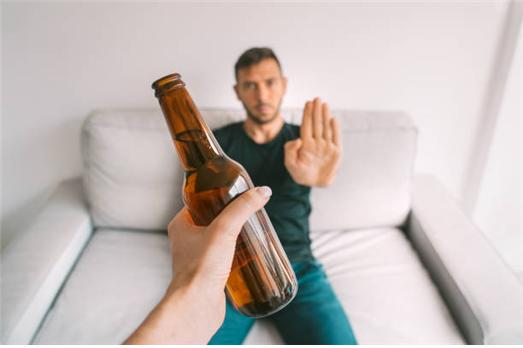alcohol: (148, 71, 296, 318)
